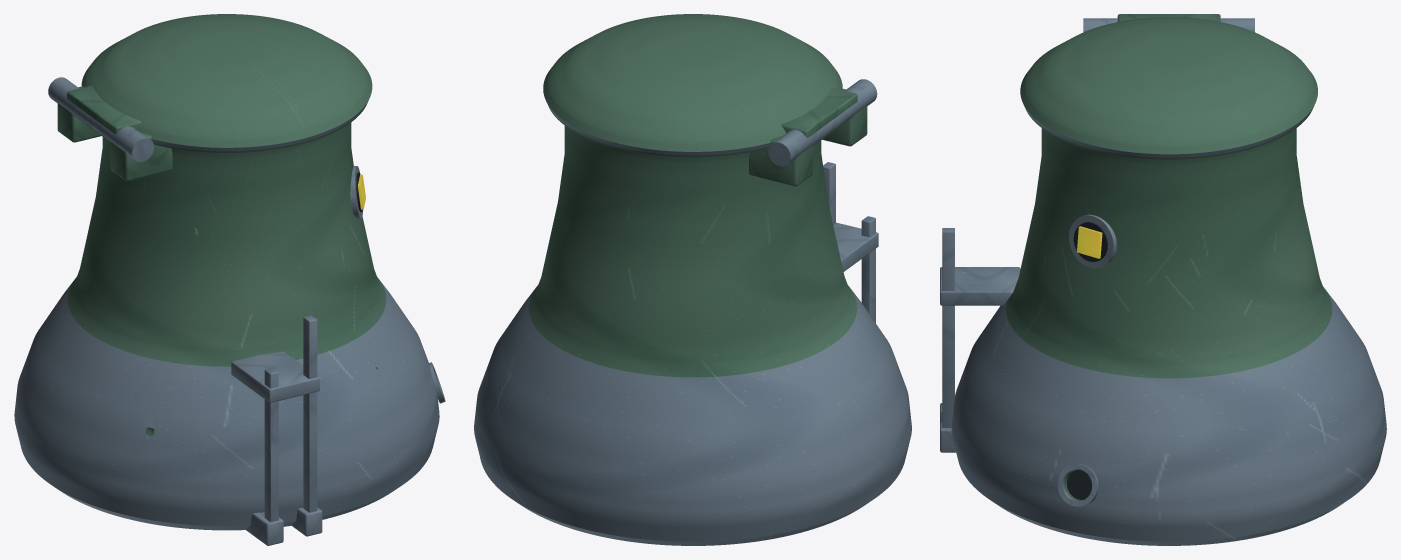
3 renders of one model, left to right at view 1: azimuth 30°, elevation 25°; view 2: azimuth 150°, elevation 25°; view 3: azimuth 270°, elevation 25°, orthographic. The views are drawn at different scales.
Parts seen in each view (by area): view 1: Missile Launcher hollow flared body and neck, Missile Launcher single shallow hinged cap, Missile Launcher short joining rung, Missile Launcher unequal pale upright 1, Missile Launcher unequal pale upright 0, Missile Launcher fixed horizontal hinge axle, Missile Launcher fixed hinge bearing 0, Missile Launcher moving cap hinge lug, Missile Launcher fixed hinge bearing 1, Missile Launcher short foot mount 0, Missile Launcher short foot mount 1; view 2: Missile Launcher hollow flared body and neck, Missile Launcher single shallow hinged cap, Missile Launcher fixed horizontal hinge axle, Missile Launcher fixed hinge bearing 1, Missile Launcher moving cap hinge lug, Missile Launcher short joining rung, Missile Launcher unequal pale upright 0, Missile Launcher fixed hinge bearing 0, Missile Launcher unequal pale upright 1; view 3: Missile Launcher hollow flared body and neck, Missile Launcher single shallow hinged cap, Missile Launcher short joining rung, Missile Launcher unequal pale upright 1, Missile Launcher upper status rim, Missile Launcher lower opening rim, Missile Launcher yellow square status core, Missile Launcher fixed horizontal hinge axle, Missile Launcher lower recessed dark floor, Missile Launcher moving cap hinge lug.
Part boxes in pixels (<box>): Missile Launcher hollow flared body and neck: <box>14,122,439,530</box>; Missile Launcher single shallow hinged cap: <box>81,14,372,152</box>; Missile Launcher short joining rung: <box>231,351,319,402</box>; Missile Launcher unequal pale upright 1: <box>303,315,317,512</box>; Missile Launcher unequal pale upright 0: <box>264,368,278,522</box>; Missile Launcher fixed horizontal hinge axle: <box>48,77,153,161</box>; Missile Launcher fixed hinge bearing 0: <box>110,132,172,181</box>; Missile Launcher moving cap hinge lug: <box>67,85,141,144</box>; Missile Launcher fixed hinge bearing 1: <box>57,86,100,142</box>; Missile Launcher short foot mount 0: <box>245,512,283,545</box>; Missile Launcher short foot mount 1: <box>291,507,322,536</box>; Missile Launcher hollow flared body and neck: <box>474,126,911,545</box>; Missile Launcher single shallow hinged cap: <box>543,14,842,157</box>; Missile Launcher fixed horizontal hinge axle: <box>768,79,877,166</box>; Missile Launcher fixed hinge bearing 1: <box>749,135,812,186</box>; Missile Launcher moving cap hinge lug: <box>781,87,857,146</box>; Missile Launcher short joining rung: <box>833,222,878,271</box>; Missile Launcher unequal pale upright 0: <box>861,216,875,322</box>; Missile Launcher fixed hinge bearing 0: <box>822,88,867,146</box>; Missile Launcher unequal pale upright 1: <box>823,162,835,224</box>; Missile Launcher hollow flared body and neck: <box>951,128,1386,545</box>; Missile Launcher single shallow hinged cap: <box>1020,17,1317,159</box>; Missile Launcher short joining rung: <box>940,267,1020,305</box>; Missile Launcher unequal pale upright 1: <box>942,228,954,427</box>; Missile Launcher upper status rim: <box>1069,214,1116,268</box>; Missile Launcher lower opening rim: <box>1057,463,1098,506</box>; Missile Launcher yellow square status core: <box>1077,226,1102,258</box>; Missile Launcher fixed horizontal hinge axle: <box>1083,18,1254,32</box>; Missile Launcher lower recessed dark floor: <box>1067,469,1091,499</box>; Missile Launcher moving cap hinge lug: <box>1117,14,1220,21</box>.
Size of the model in its own units: 1.52 by 1.58 by 1.56.
4 materials, 3 textured.
